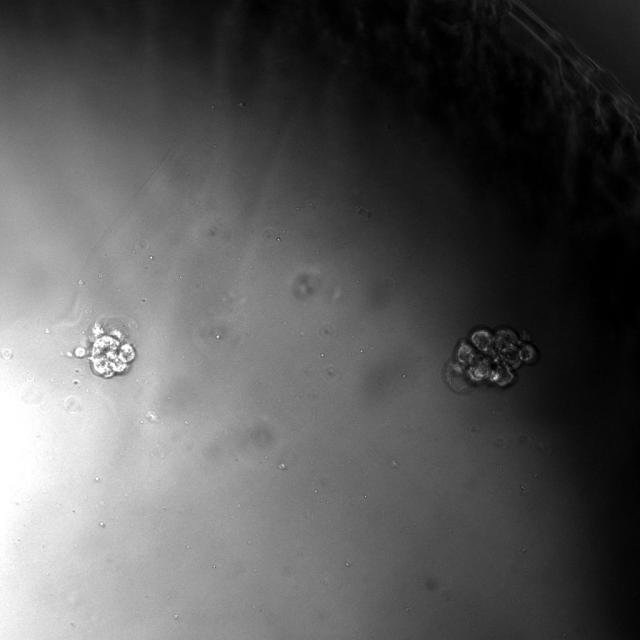organoid: (444, 326, 539, 392), (74, 323, 135, 378)
